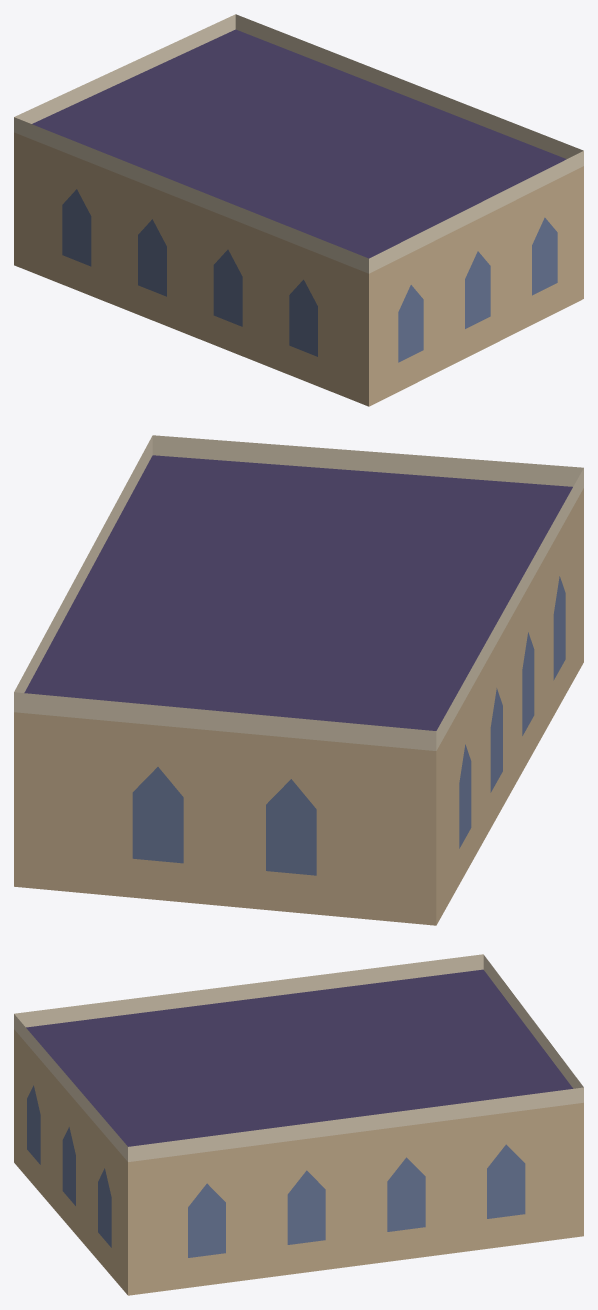
File: b-030-day.glb
3 renders of one model, top to bottom at view 1: azimuth 30°, elevation 25°; view 2: azimuth 150°, elevation 25°; view 3: azimuth 270°, elevation 25°, orthographic. The views are drawn at different scales.
Parts seen in each view (by area): view 1: campus/b-030-day-0; view 2: campus/b-030-day-0; view 3: campus/b-030-day-0.
Boxes of the visible parts, x1=… form: campus/b-030-day-0: x1=14, y1=14, x2=583, y2=406; campus/b-030-day-0: x1=14, y1=435, x2=583, y2=925; campus/b-030-day-0: x1=14, y1=954, x2=583, y2=1295.
Size of the model in its own units: 14.85 by 5.35 by 18.57.
